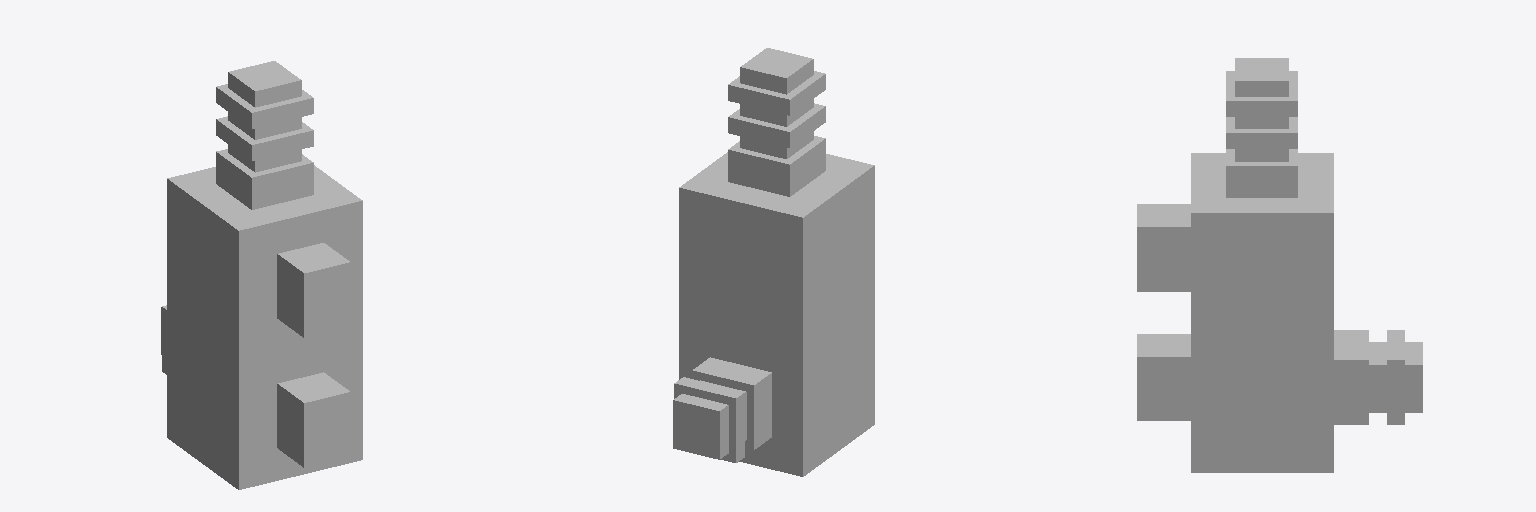
The model's file is transformer_post.obj.
The picture shows the model from 3 angles: view 1: azimuth 30°, elevation 25°; view 2: azimuth 150°, elevation 25°; view 3: azimuth 270°, elevation 25°; orthographic projection.
Parts seen in each view (by area): view 1: transformerPost; view 2: transformerPost; view 3: transformerPost.
Boxes of the visible parts, box(x1,y1,x2,y2) form: transformerPost: box(161, 61, 362, 489); transformerPost: box(673, 48, 874, 476); transformerPost: box(1137, 58, 1422, 472).
Size of the model in its own units: 0.5 by 1.44 by 1.